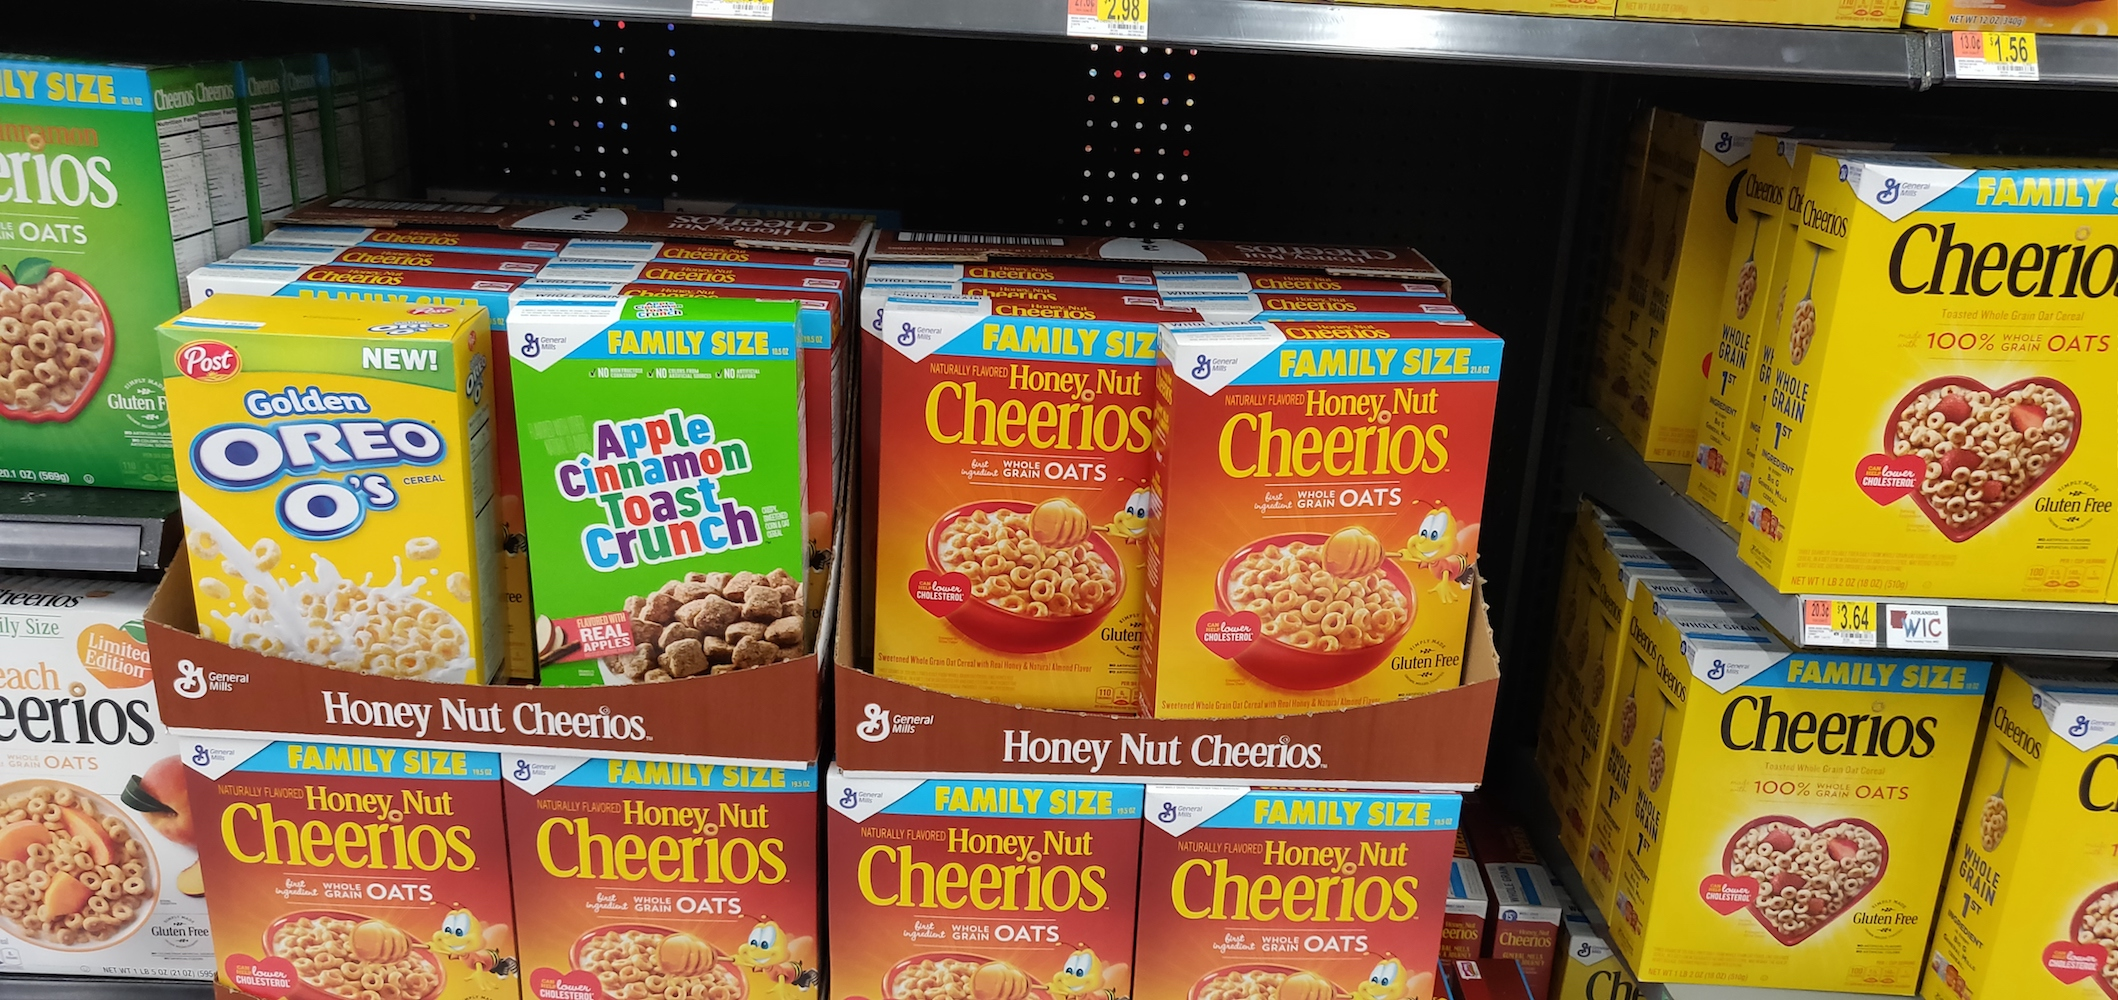Oreo Golden-568301011: (162, 327, 485, 684)
